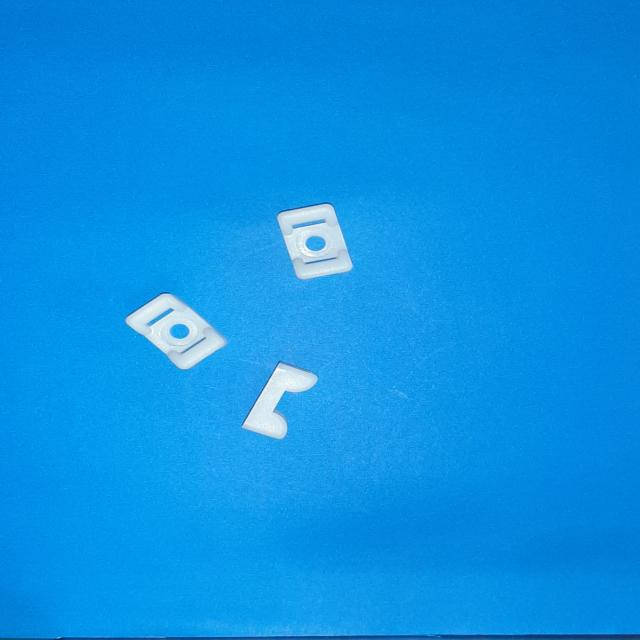false_2: (242, 362, 318, 439)
true: (127, 294, 227, 369), (277, 204, 353, 280)
true_center: (305, 236, 325, 251), (170, 324, 188, 339)
